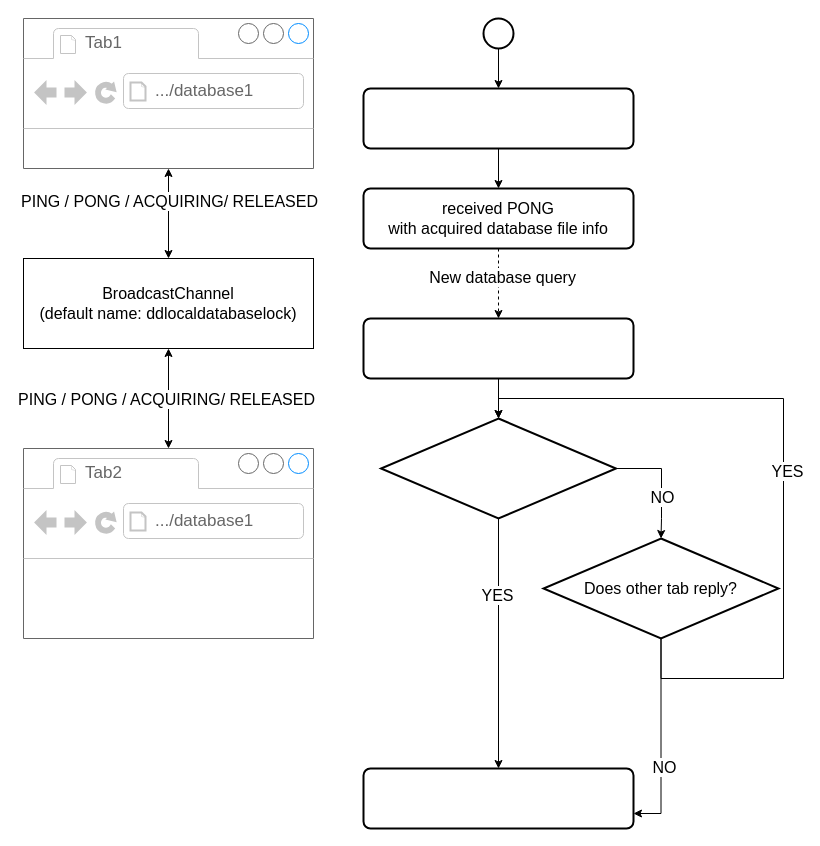
Some shapes in this 820 by 846 pixel diagram are drawn without their labels. Each missing label, with the box of its shape:
Querying database ...: (362, 767, 634, 829)
Received RELEASED ?: (380, 417, 616, 519)
send ACQUIRING: (362, 317, 634, 379)
send PING: (362, 87, 634, 149)
